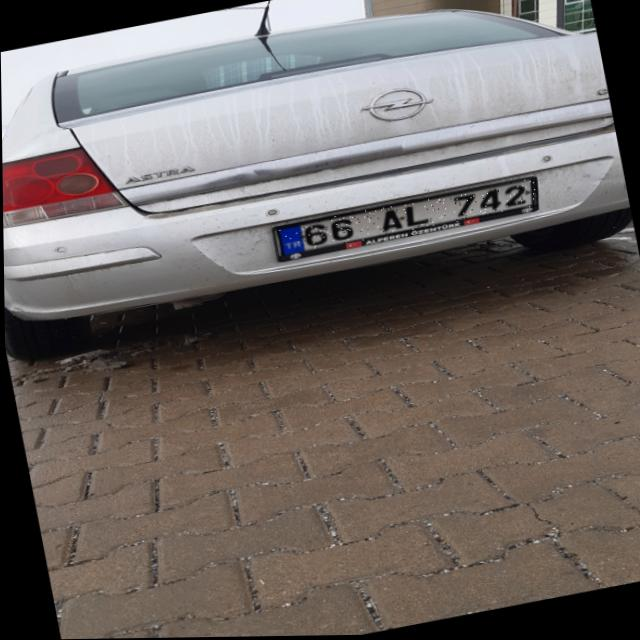license_plate: (272, 179, 538, 256)
